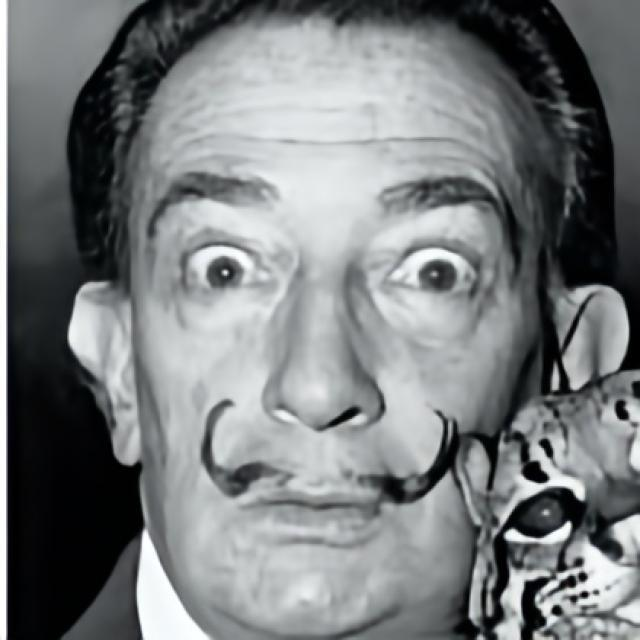Fear: (129, 7, 542, 640)
